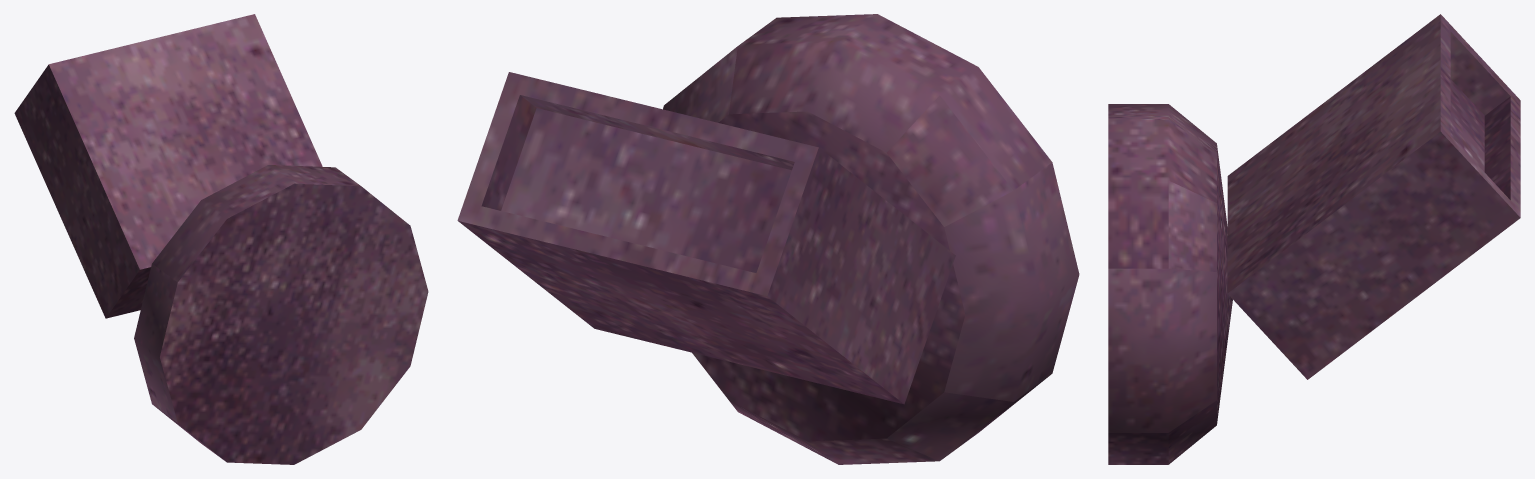
The model's file is missile_turret_01.obj.
3 views of the same model, side by side, from view 1: azimuth 30°, elevation 25°; view 2: azimuth 150°, elevation 25°; view 3: azimuth 270°, elevation 25° (orthographic). The views are drawn at different scales.
Visible parts, largest first — view 1: missile_turret_01; view 2: missile_turret_01; view 3: missile_turret_01.
Part boxes in pixels (x1=…): missile_turret_01: x1=14, y1=14, x2=428, y2=464; missile_turret_01: x1=457, y1=14, x2=1079, y2=464; missile_turret_01: x1=1108, y1=14, x2=1520, y2=464.
Size of the model in its own units: 404 by 462 by 460.
